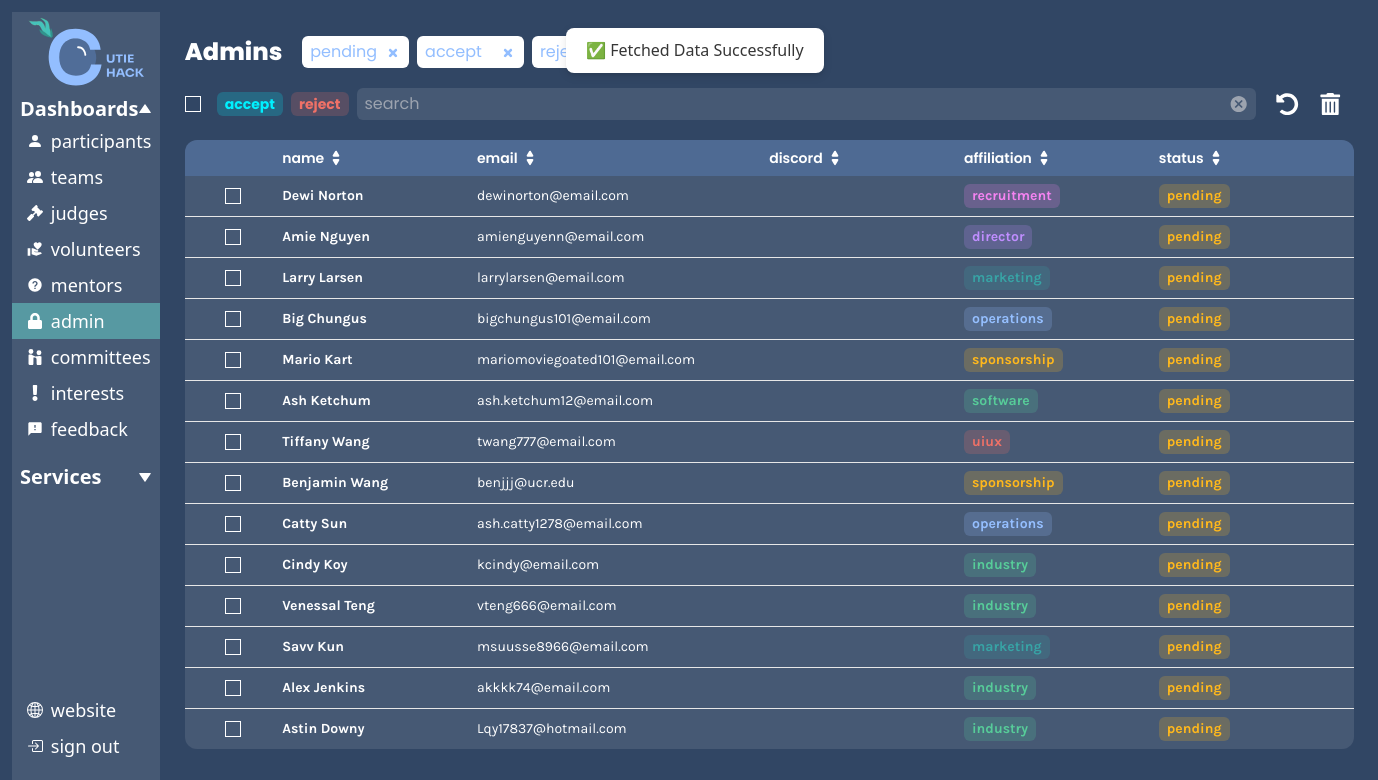
Test: Admin Sort › Sort Email Up
Click the icon with test id "email-sort-up".
click(530, 154)  # box [526,150,534,158]
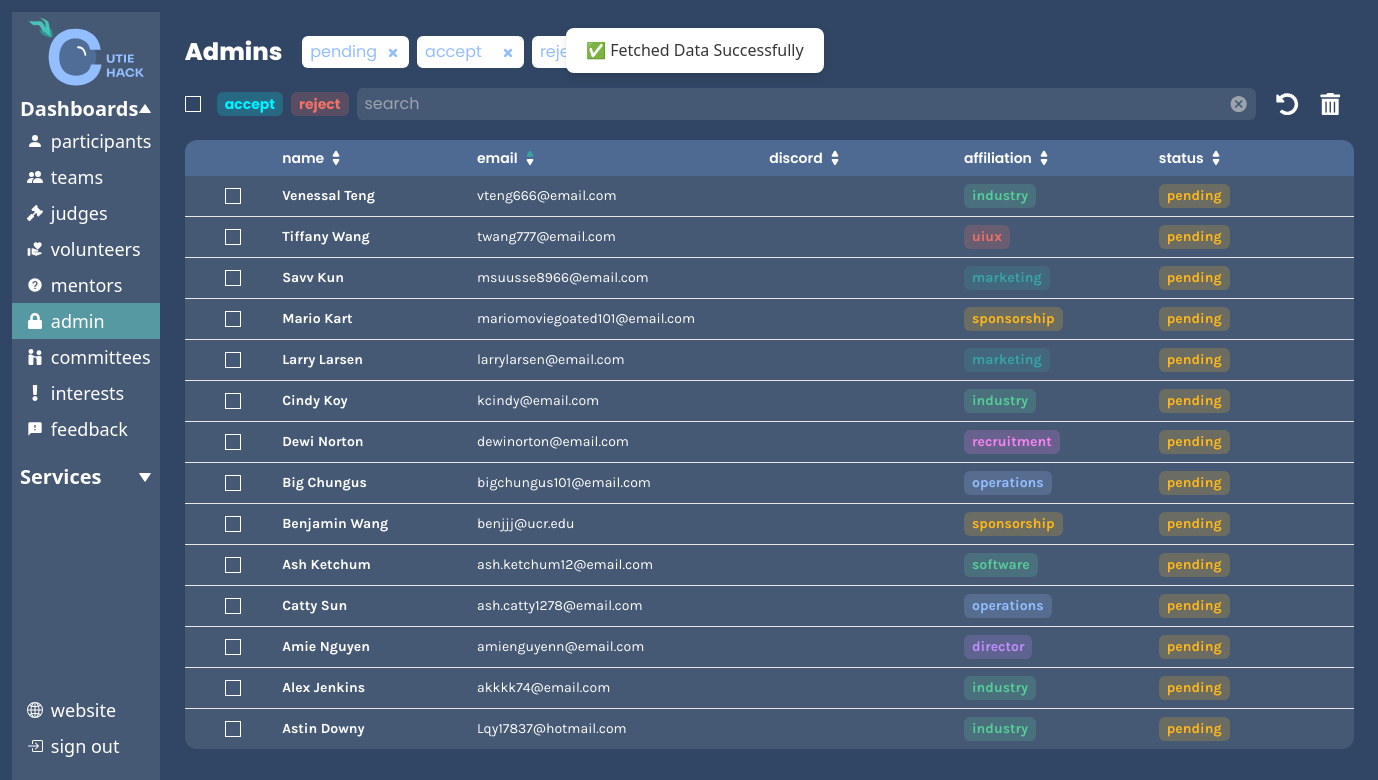
Result: the text with test id "email" reads "vteng666@email.com" at [477,187,617,204]
Result: the text with test id "email" reads "twang777@email.com" at [477,228,616,245]
Result: the text with test id "email" reads "msuusse8966@email.com" at [477,269,649,286]
